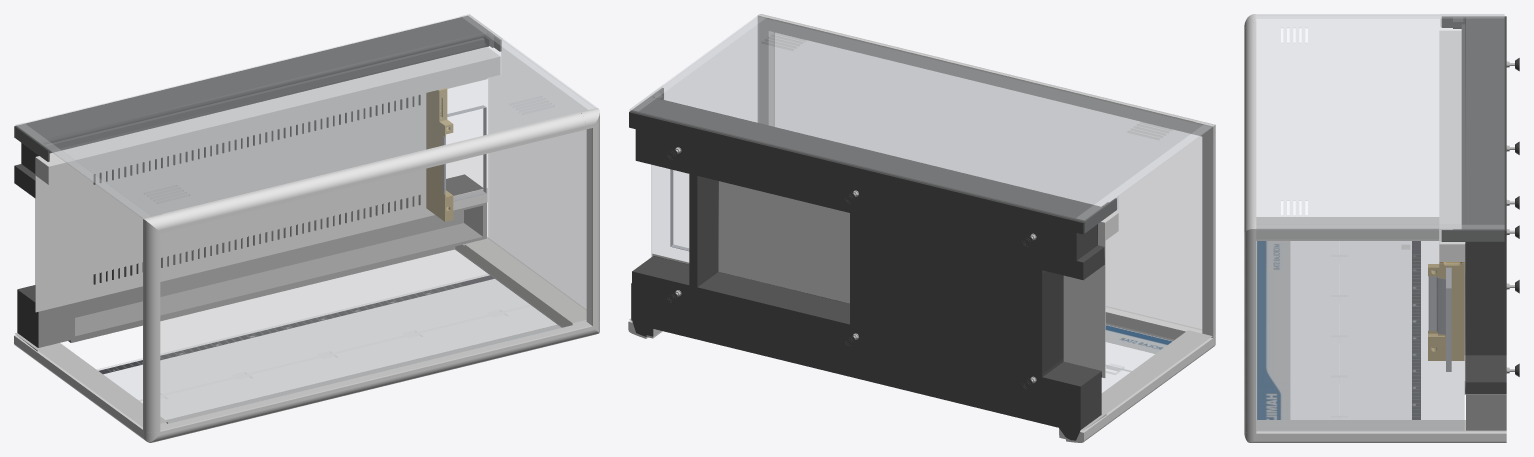
The model's file is star_base_with_top_panel.glb.
3 renders of one model, left to right at view 1: azimuth 30°, elevation 25°; view 2: azimuth 150°, elevation 25°; view 3: azimuth 270°, elevation 25°, orthographic. The views are drawn at different scales.
Parts seen in each view (by area): view 1: star_base; view 2: star_base; view 3: star_base.
Boxes of the visible parts, <box> form: star_base: <box>14,14,599,442</box>; star_base: <box>628,14,1215,442</box>; star_base: <box>1244,14,1519,442</box>.
Bounding box in the file's own units: 1.67 × 0.7926 × 0.903.
14 materials, 2 textured.
